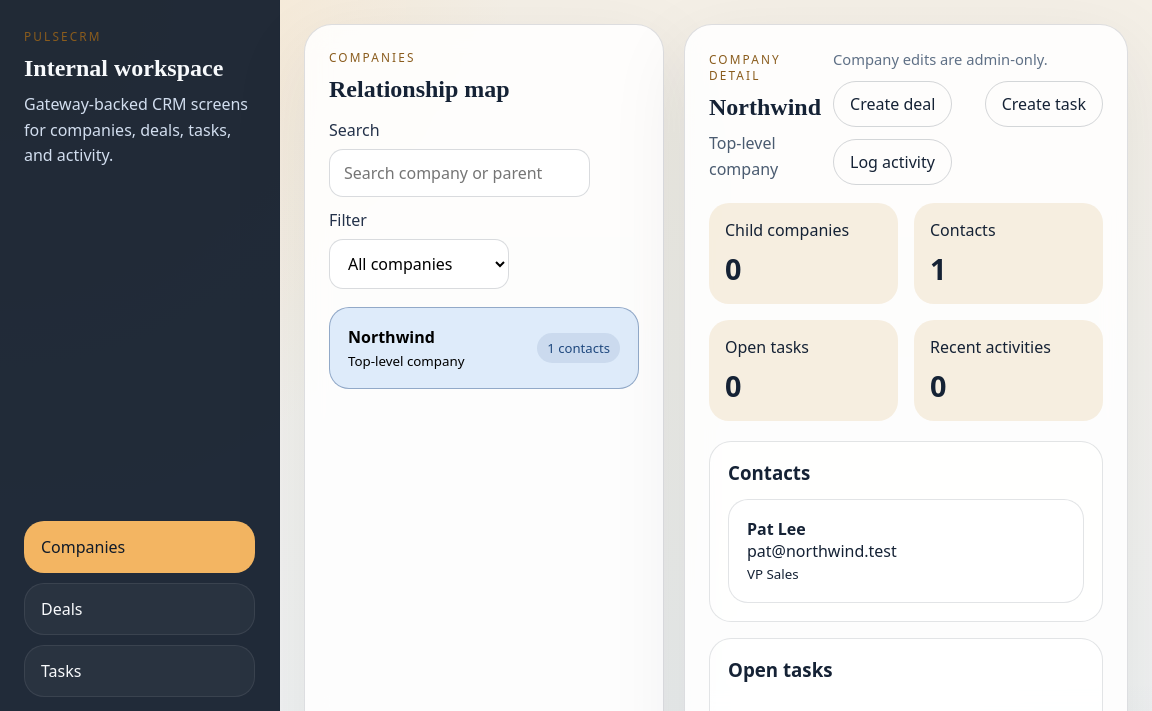
it: shows an assignee picker for managers when creating a task
Expected: the heading "Northwind" is shown, left=709, top=95, right=821, bottom=119
Click the button "Create task" at coordinates (1044, 104), box left=985, top=81, right=1103, bottom=127
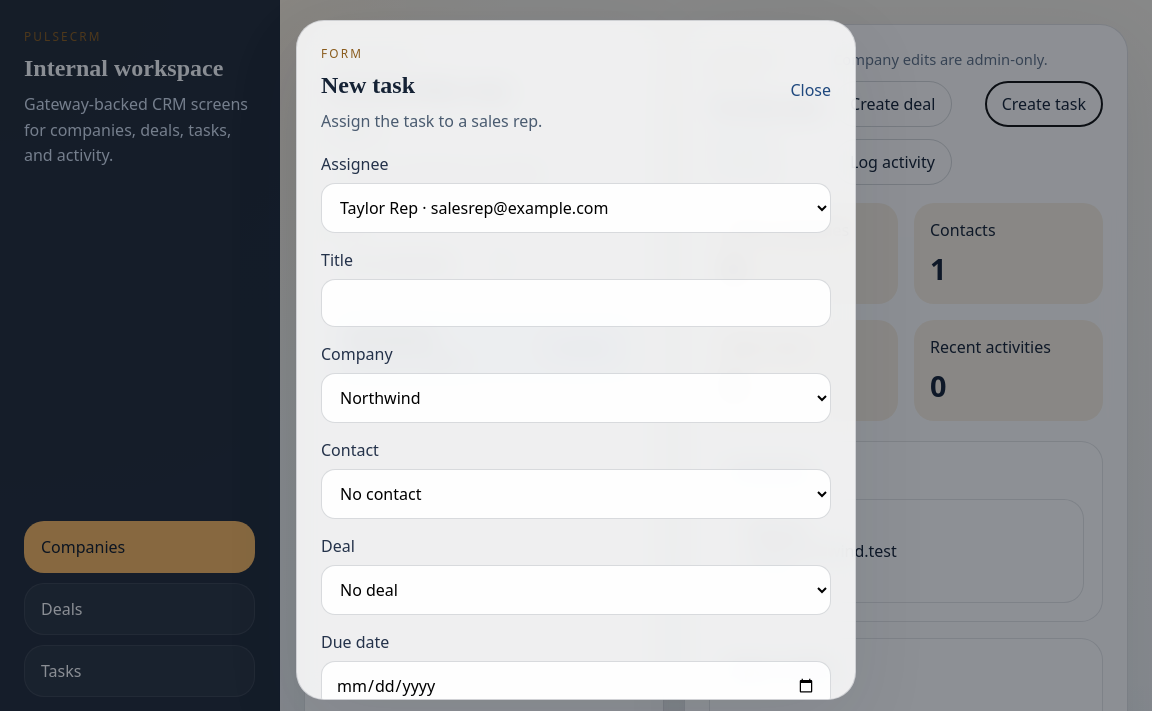
Expected: the heading "New task" is shown, left=321, top=72, right=415, bottom=98
Expected: the text "Assign the task to a sales rep." is shown, left=321, top=109, right=542, bottom=135
Expected: the dropdown labelled "Assignee" is shown, left=321, top=183, right=831, bottom=233
